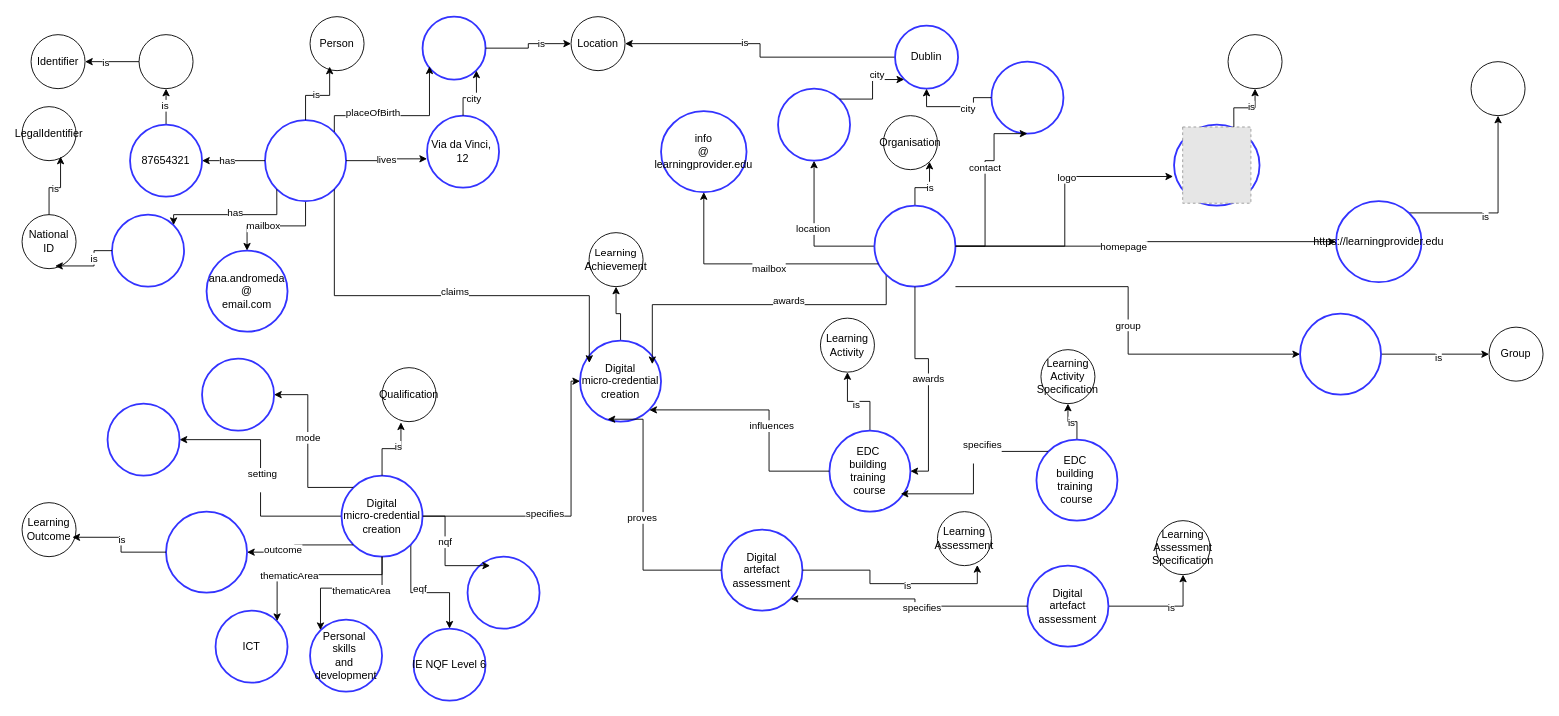
Some shapes in this 1559 by 716 pixel diagram are drawn without their labels. Grey dashed boxes stand in for pictures. The box of each missing label's shape, as (x1, y1, x2, y2) in pixels:
Ana Andromena: (264, 119, 346, 202)
Blended: (201, 357, 274, 431)
Campus Square 429: (990, 60, 1064, 134)
Communication, collaboration and creativity: (165, 510, 248, 593)
Instant Street 16: (777, 87, 850, 161)
IT-12345678: (111, 213, 184, 287)
Learning Provider: (873, 204, 956, 287)
Level 6: (466, 555, 540, 629)
MediaObject: (1227, 34, 1282, 89)
non-formal learning: (106, 402, 180, 476)
Research Alliance: (1299, 312, 1382, 395)
Rome: (421, 15, 486, 80)
Student Card: (138, 34, 193, 89)
WebResourcc: (1470, 61, 1525, 116)
